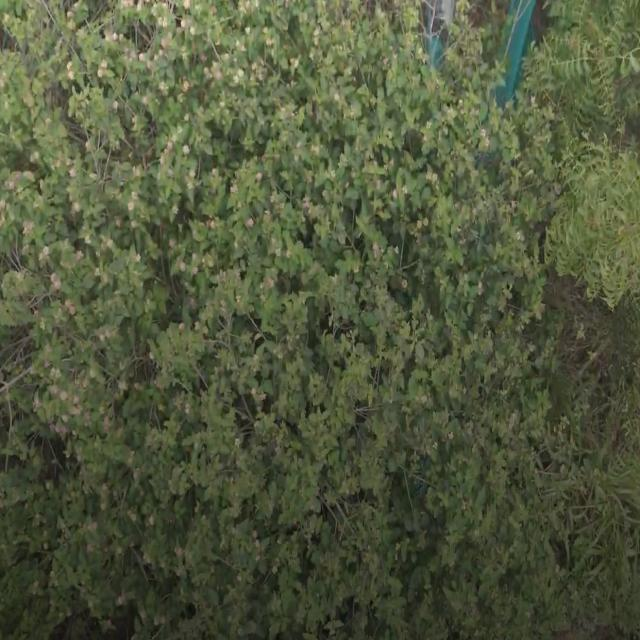notMangoTree: (0, 0, 543, 640), (544, 0, 639, 318)
